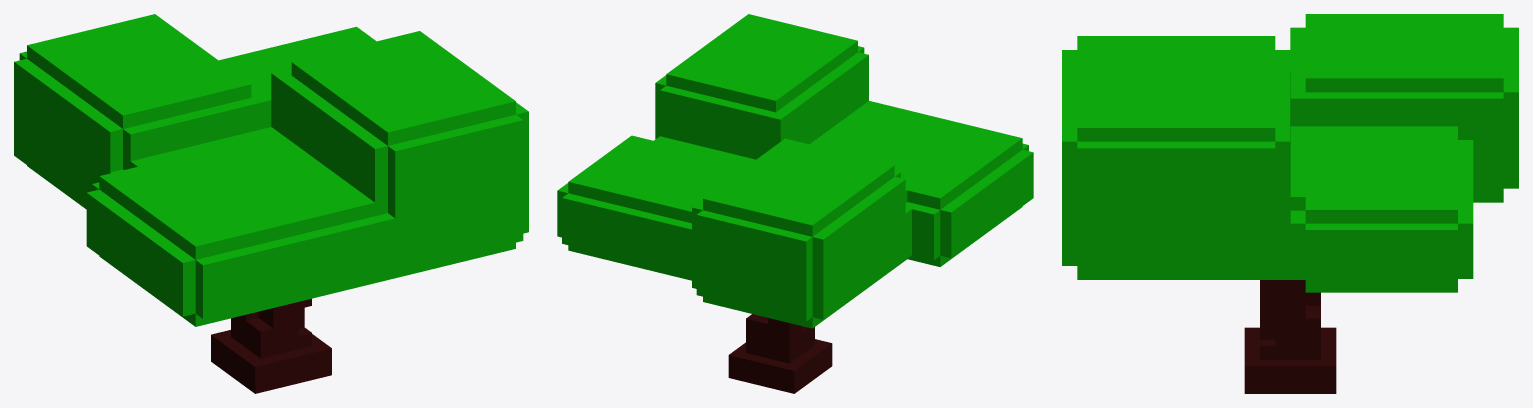
Rendered from Tree_2_2.fbx.
The picture shows the model from 3 angles, left to right: view 1: azimuth 30°, elevation 25°; view 2: azimuth 150°, elevation 25°; view 3: azimuth 270°, elevation 25°; orthographic projection. The views are drawn at different scales.
Visible parts, largest first — view 1: Tree_2_2; view 2: Tree_2_2; view 3: Tree_2_2.
Part boxes in pixels (bbox=[...]): Tree_2_2: bbox=[14, 14, 528, 393]; Tree_2_2: bbox=[557, 14, 1033, 393]; Tree_2_2: bbox=[1062, 14, 1518, 393].
Bounding box in the file's own units: 2900 × 2300 × 3000.
